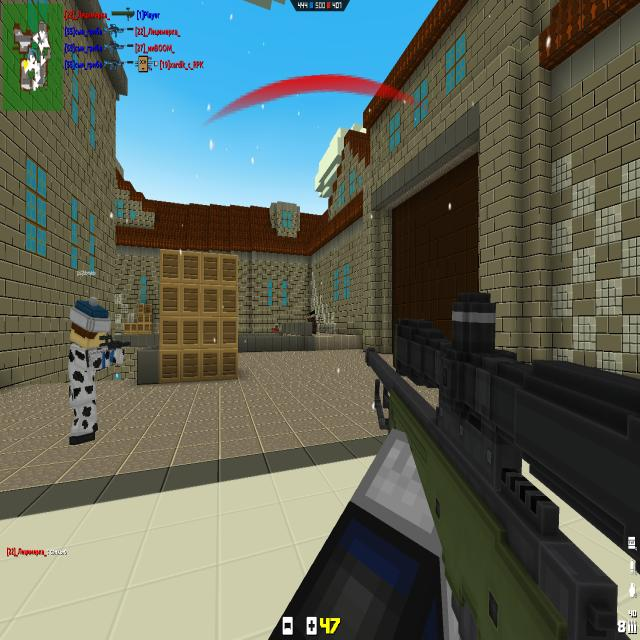player: (70, 300, 122, 442), (311, 312, 316, 333), (275, 324, 279, 334), (308, 314, 312, 322)
